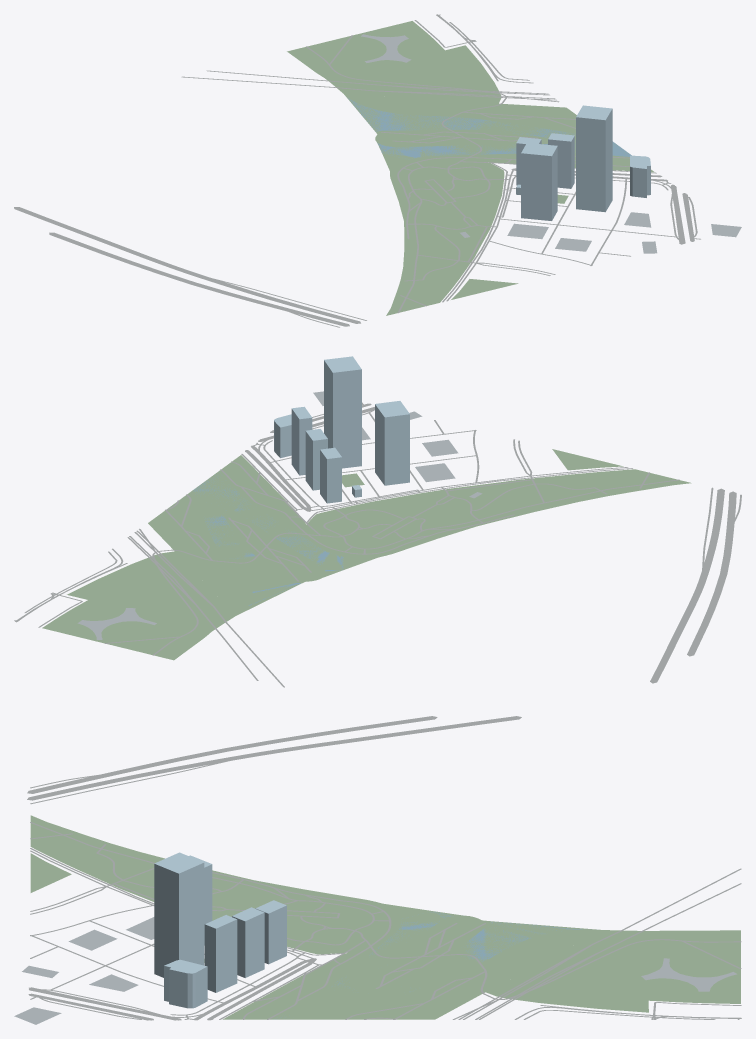
File: -15_-1-known-coarse.glb
The picture shows the model from 3 angles, top to bottom: view 1: azimuth 30°, elevation 25°; view 2: azimuth 150°, elevation 25°; view 3: azimuth 270°, elevation 25°; orthographic projection. The views are drawn at different scales.
Bounding box in the file's own units: 1024 × 171 × 1020.
